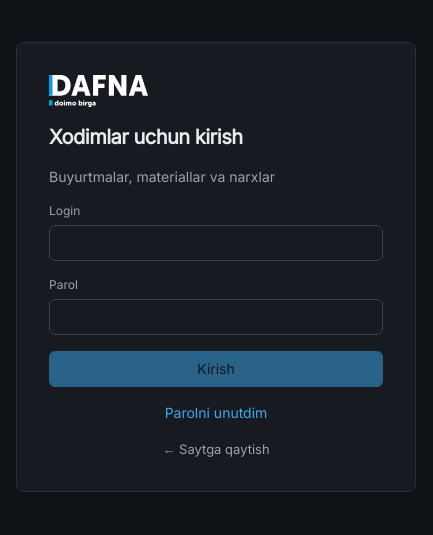
Test case: D-19 manager price page › D-38 a wrong password stays on the sign-in form
In the field with test id "mgr-login" showing "Login": coordinates (216, 243) [49,225,383,261], type "aziz"
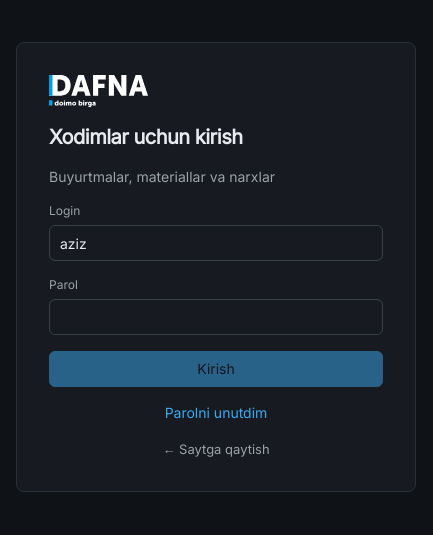
In the password field with test id "mgr-password": coordinates (216, 317) [49,299,383,335], type "wrong-pass"
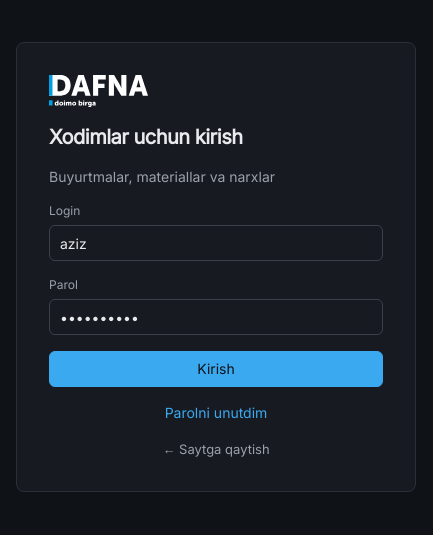
Click the button "Kirish": coordinates (216, 369) [49,351,383,387]
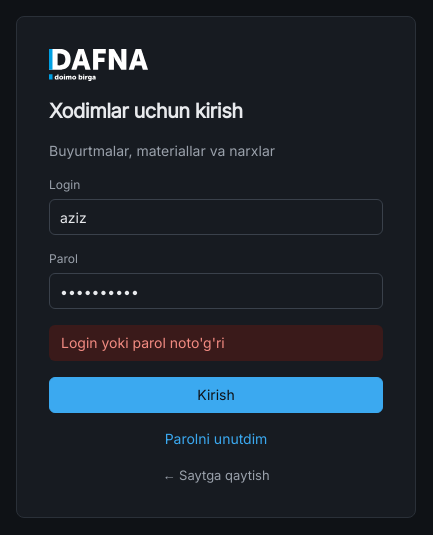
Expected: the message reads "Login yoki parol noto'g'ri", [61,334,225,351]
